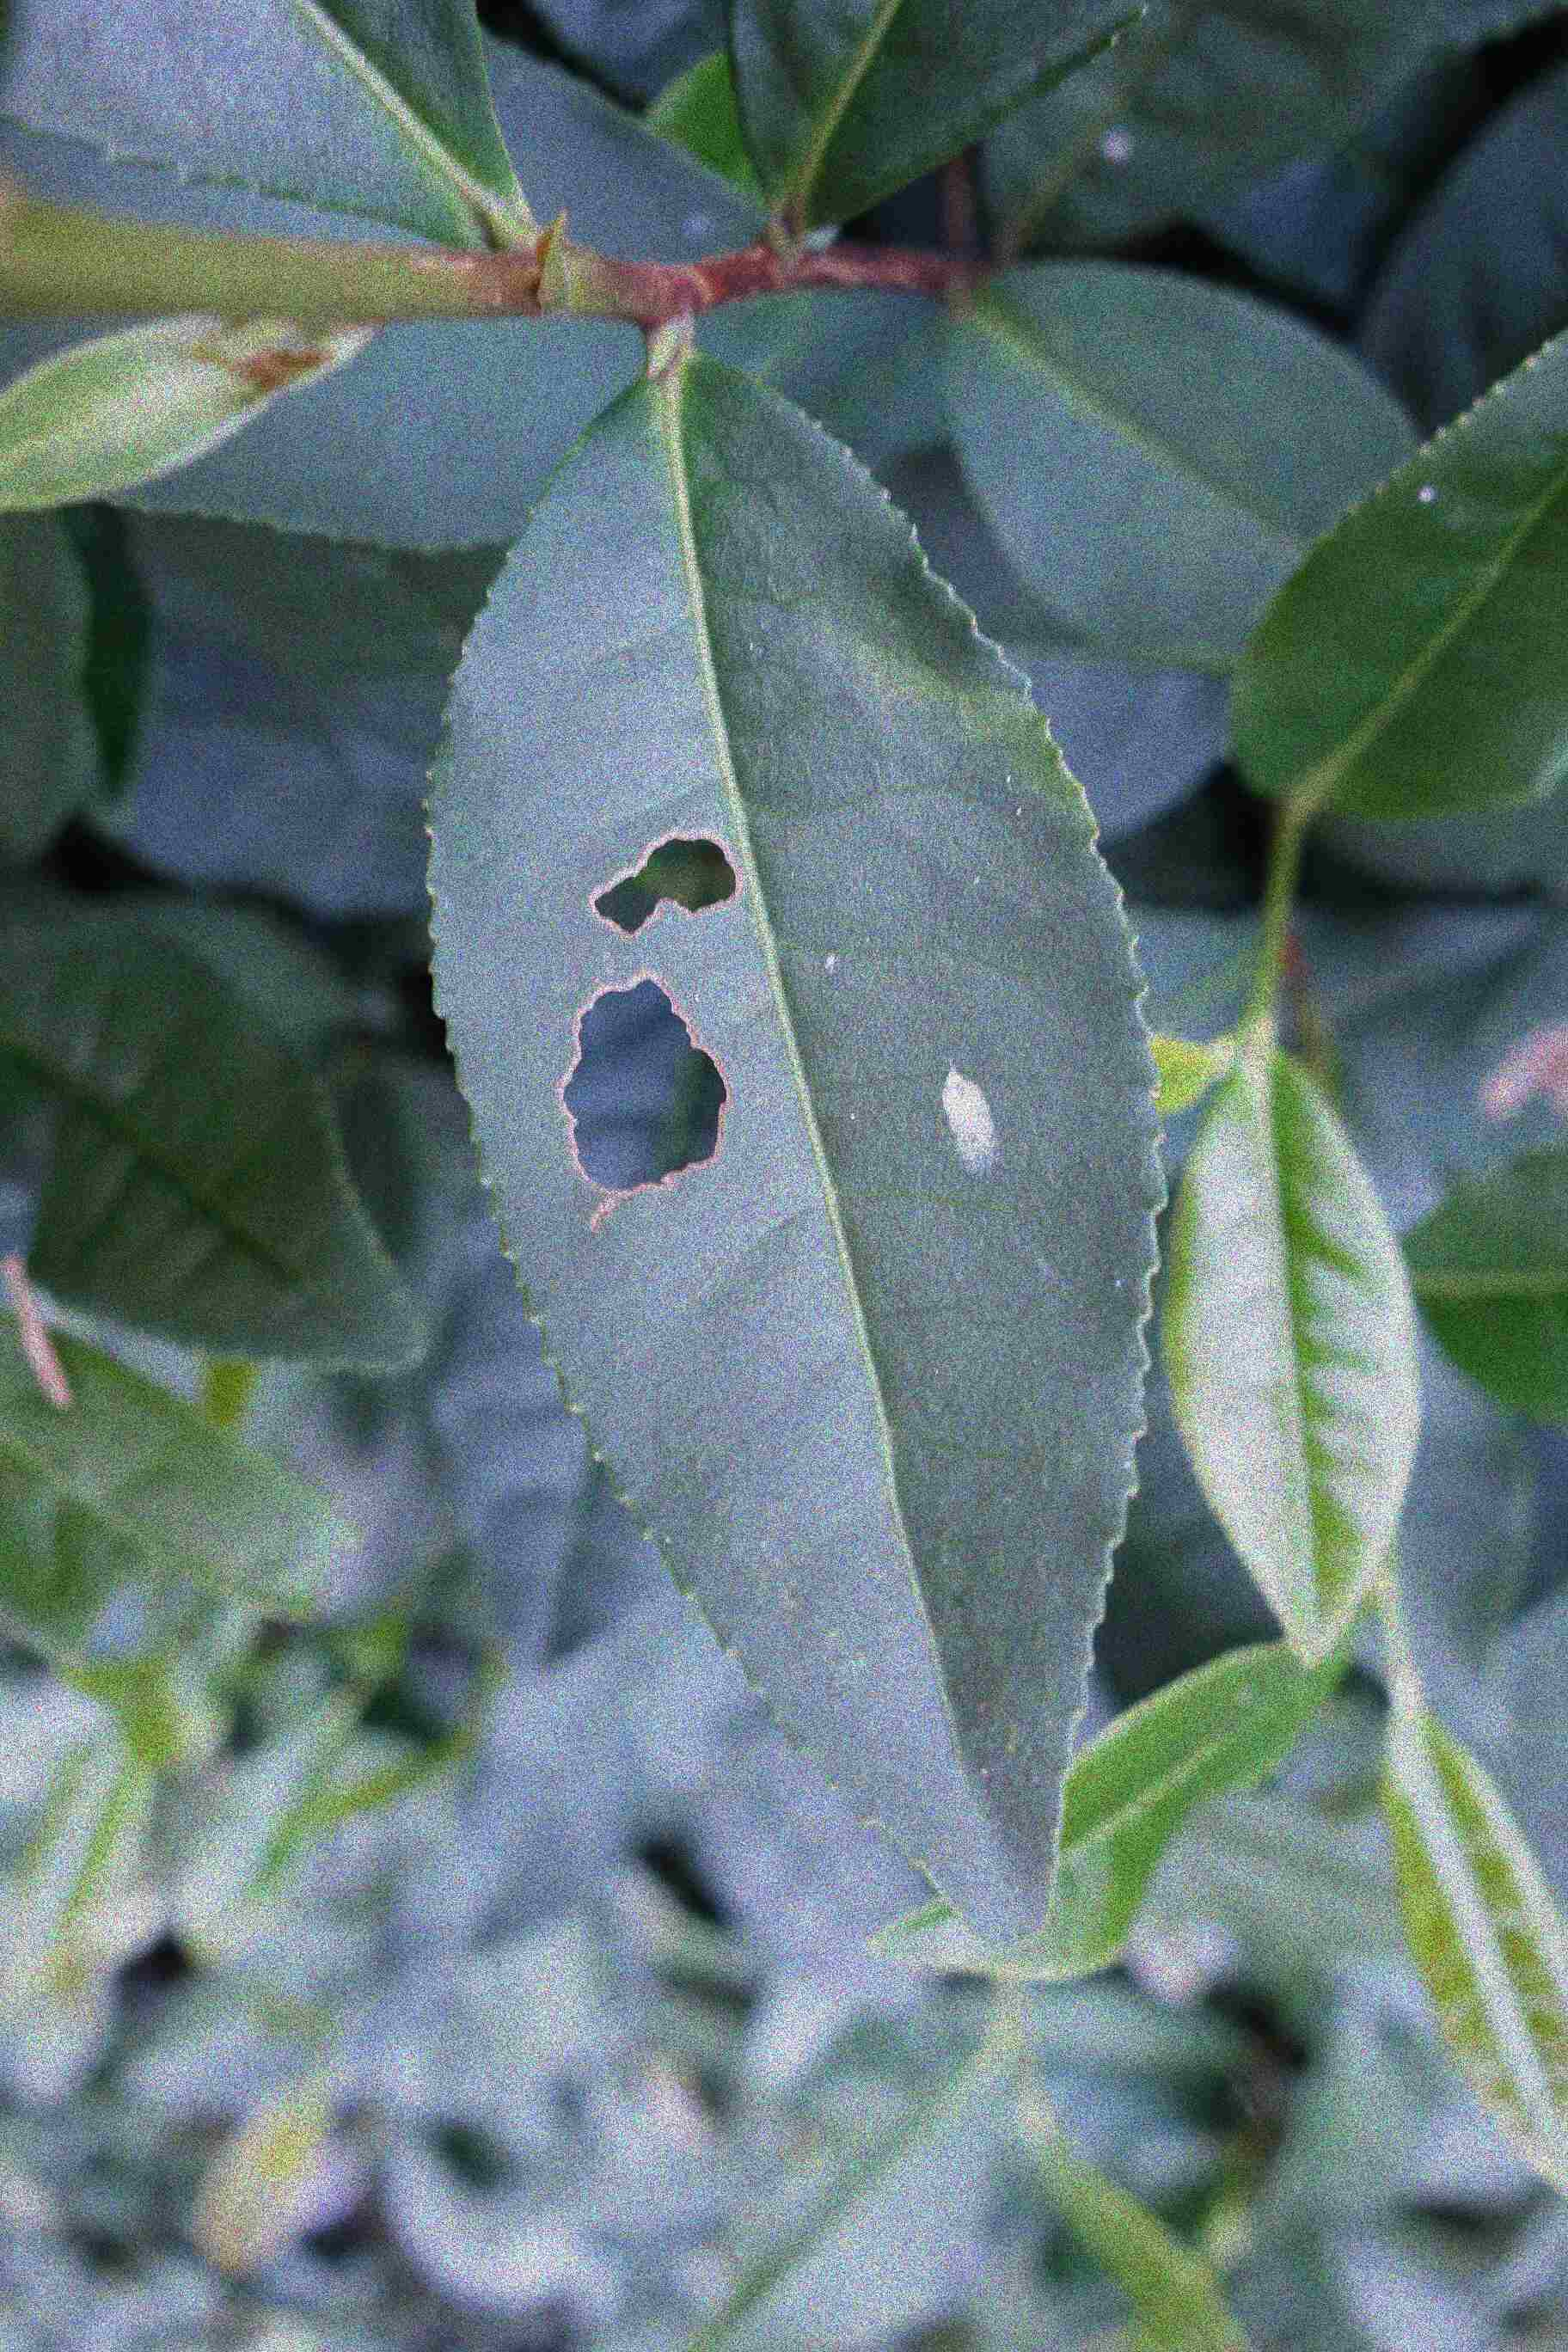chihuo_high: (415, 311, 1169, 1955)
